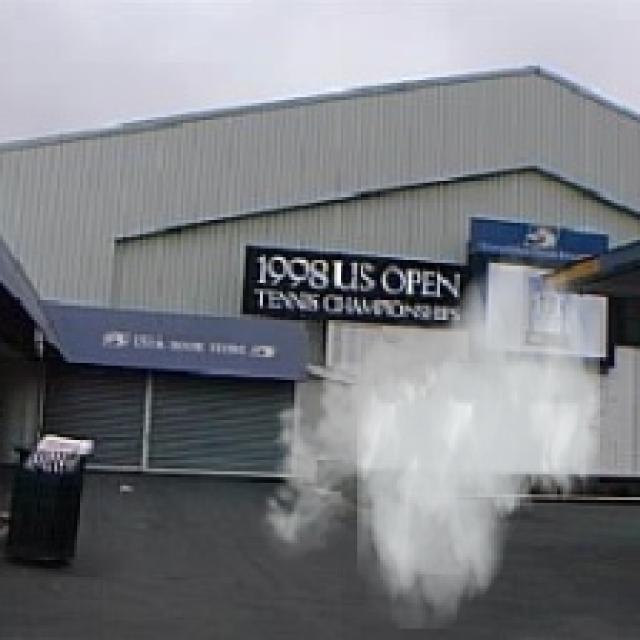smoke: (254, 243, 600, 628)
